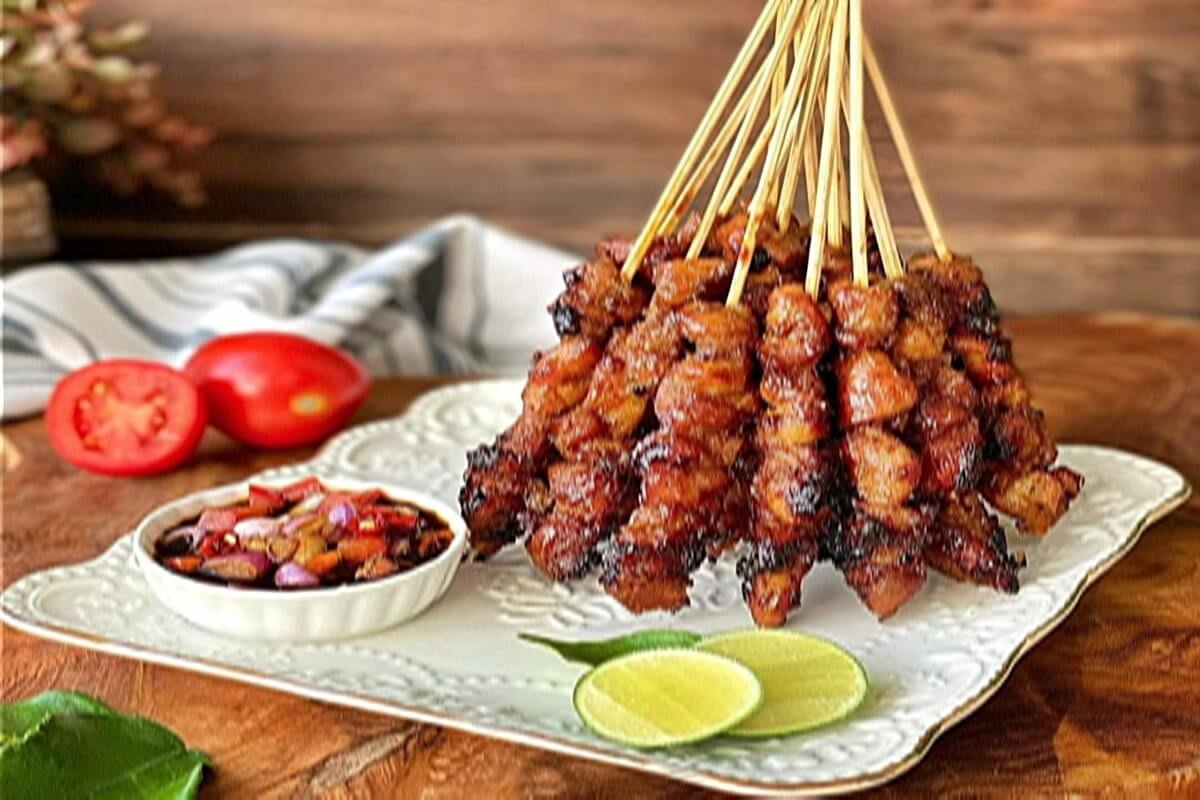sate: (457, 163, 1084, 633)
